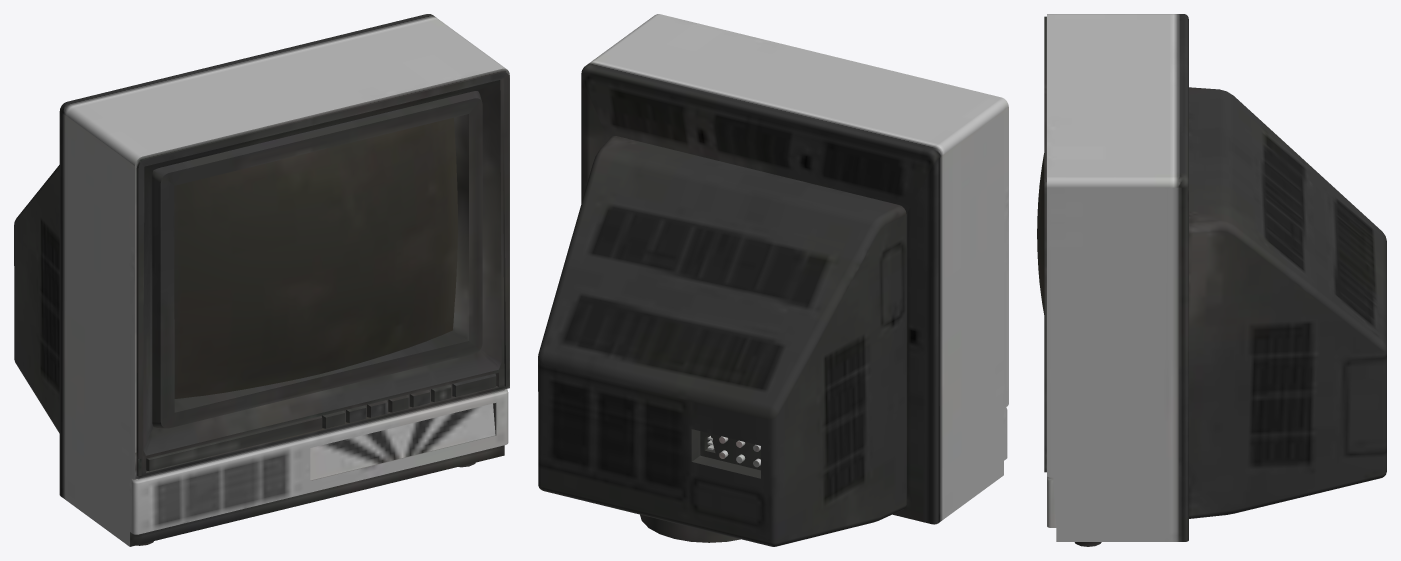
Rendered from television_02.glb.
The picture shows the model from 3 angles, left to right: view 1: azimuth 30°, elevation 25°; view 2: azimuth 150°, elevation 25°; view 3: azimuth 270°, elevation 25°; orthographic projection. The views are drawn at different scales.
Visible parts, largest first — view 1: television_02, television_02_lo; view 2: television_02, television_02_lo; view 3: television_02.
Part boxes in pixels (bbox=[...]): television_02: bbox=[14, 14, 509, 546]; television_02_lo: bbox=[136, 77, 505, 480]; television_02: bbox=[538, 14, 1008, 546]; television_02_lo: bbox=[690, 215, 906, 540]; television_02: bbox=[1037, 14, 1386, 546].
Size of the model in its own units: 0.3998 by 0.4114 by 0.3502.
Materials: 1 (1 with a texture image).
